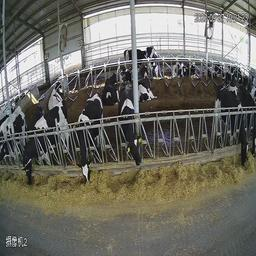cow: (22, 104, 69, 199), (73, 90, 109, 201), (211, 79, 249, 174), (120, 81, 144, 179), (120, 35, 154, 70), (44, 69, 70, 113), (137, 64, 159, 106), (100, 67, 121, 111), (167, 51, 186, 82), (205, 56, 223, 83), (189, 53, 203, 85)
